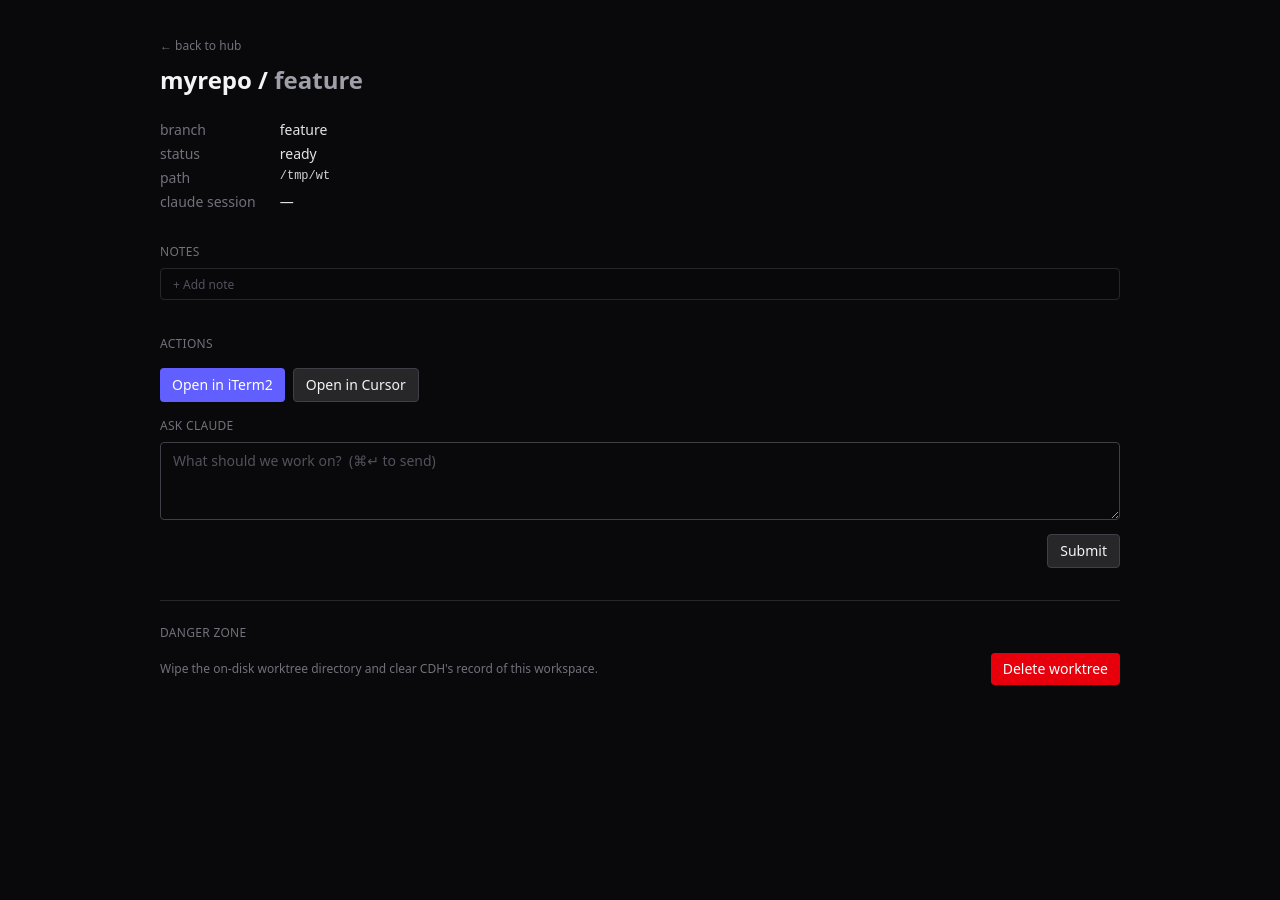
it: WorkspacePage › Delete confirm button stays disabled until 'delete worktree' is typed
The width and height of the screenshot is (1280, 900).
Click the button "Delete worktree": [1055, 669] box [991,653,1120,685]
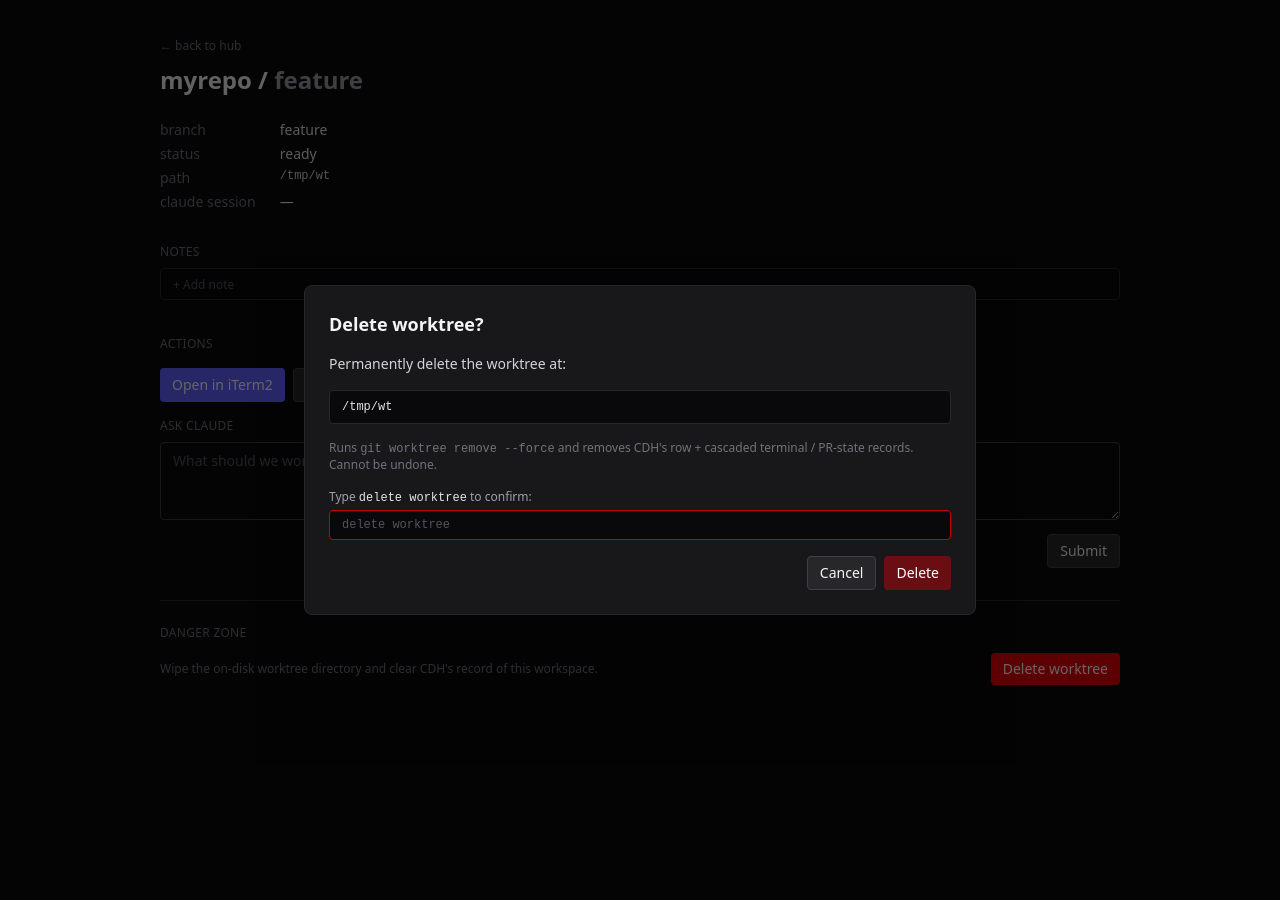
Expected: the button "Delete" is disabled, [884,556,951,590]
# Partial / wrong text → still disabled.
In the field with placeholder "delete worktree": [640, 525] box [329,510,951,540], type "delete"
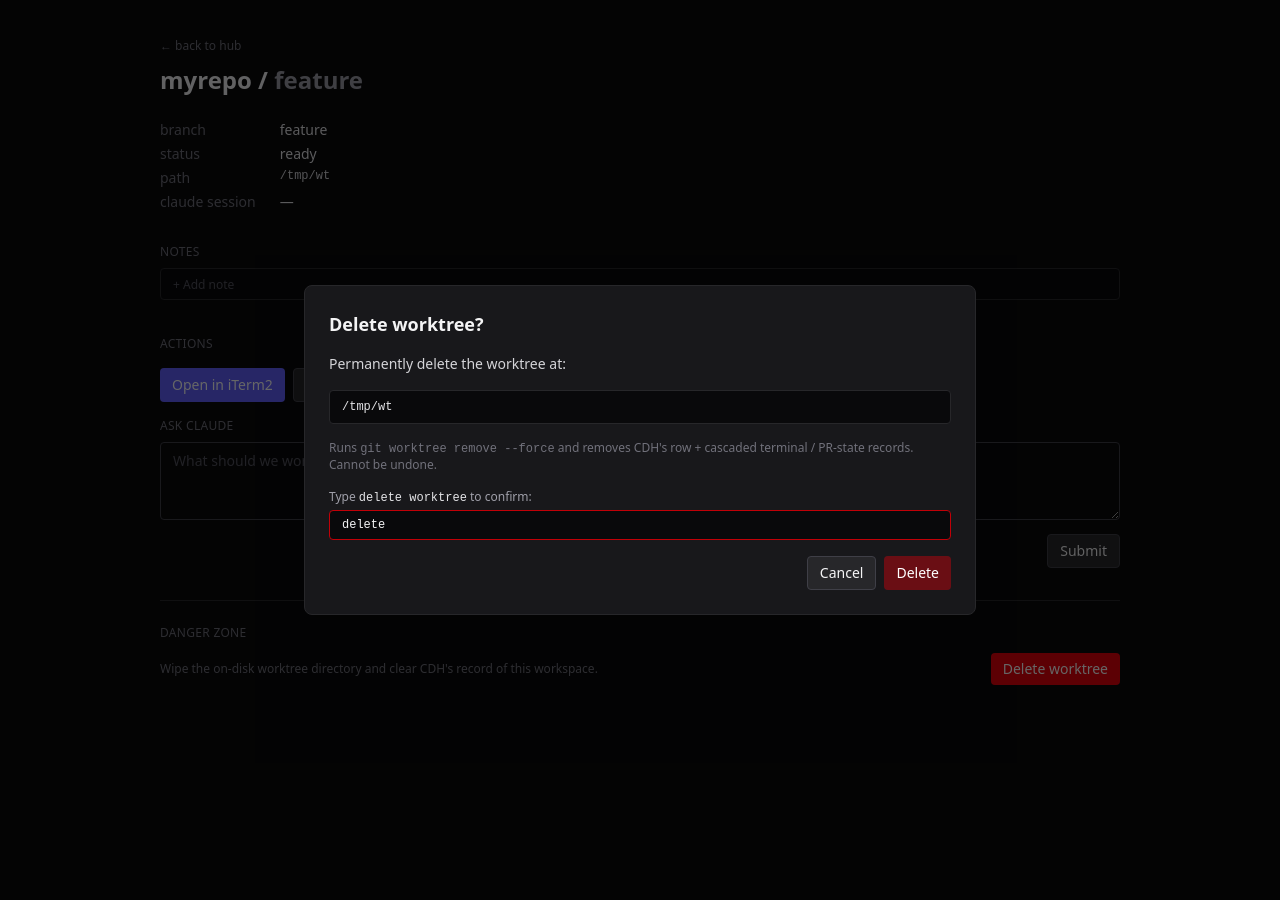
Expected: the button "Delete" is disabled, [884,556,951,590]
Replace the text in the field with placeholder "delete worktree" with "delete WORKTREE": [640, 525] box [329,510,951,540]
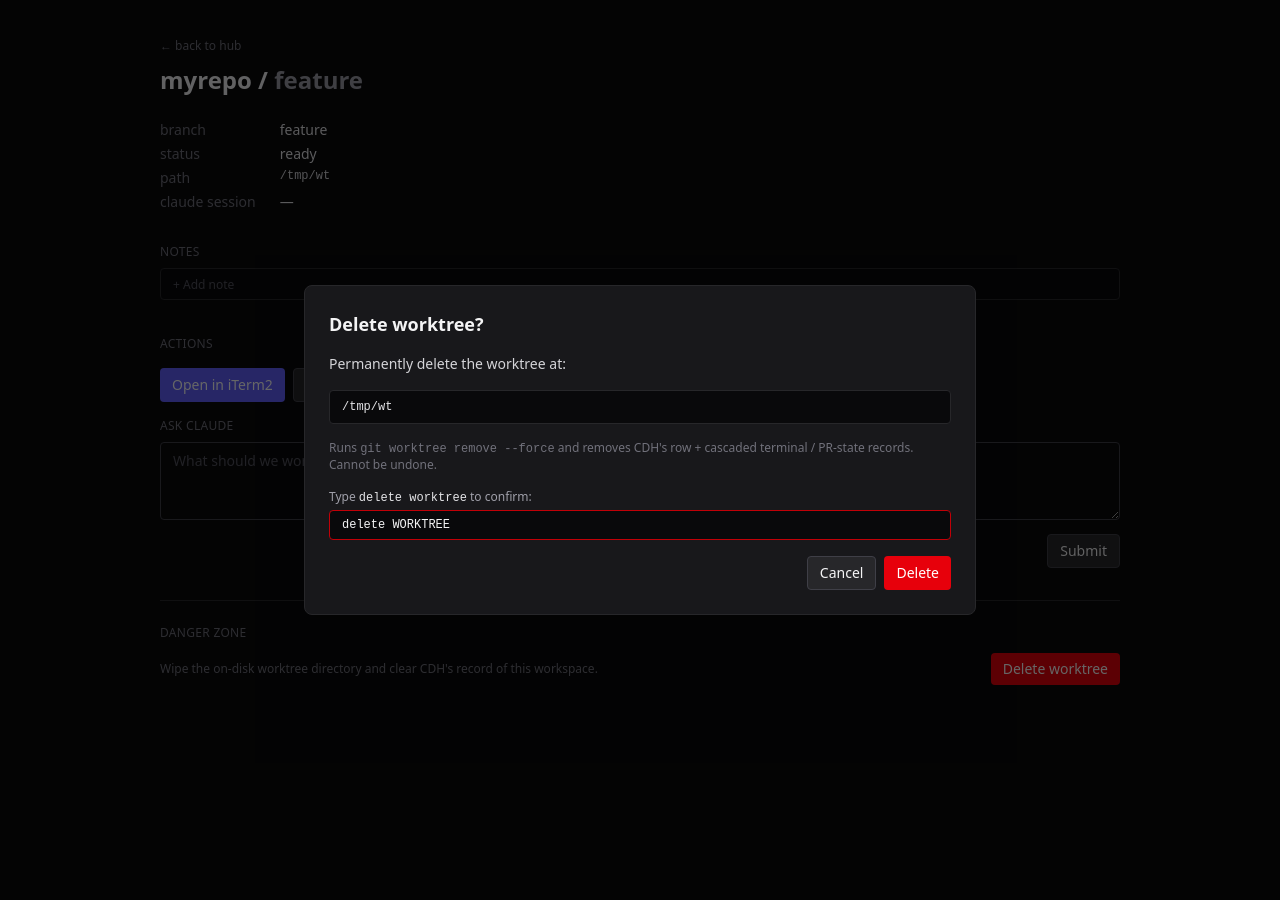
Expected: the button "Delete" is enabled, [884,556,951,590]
Replace the text in the field with placeholder "delete worktree" with "nope": [640, 525] box [329,510,951,540]
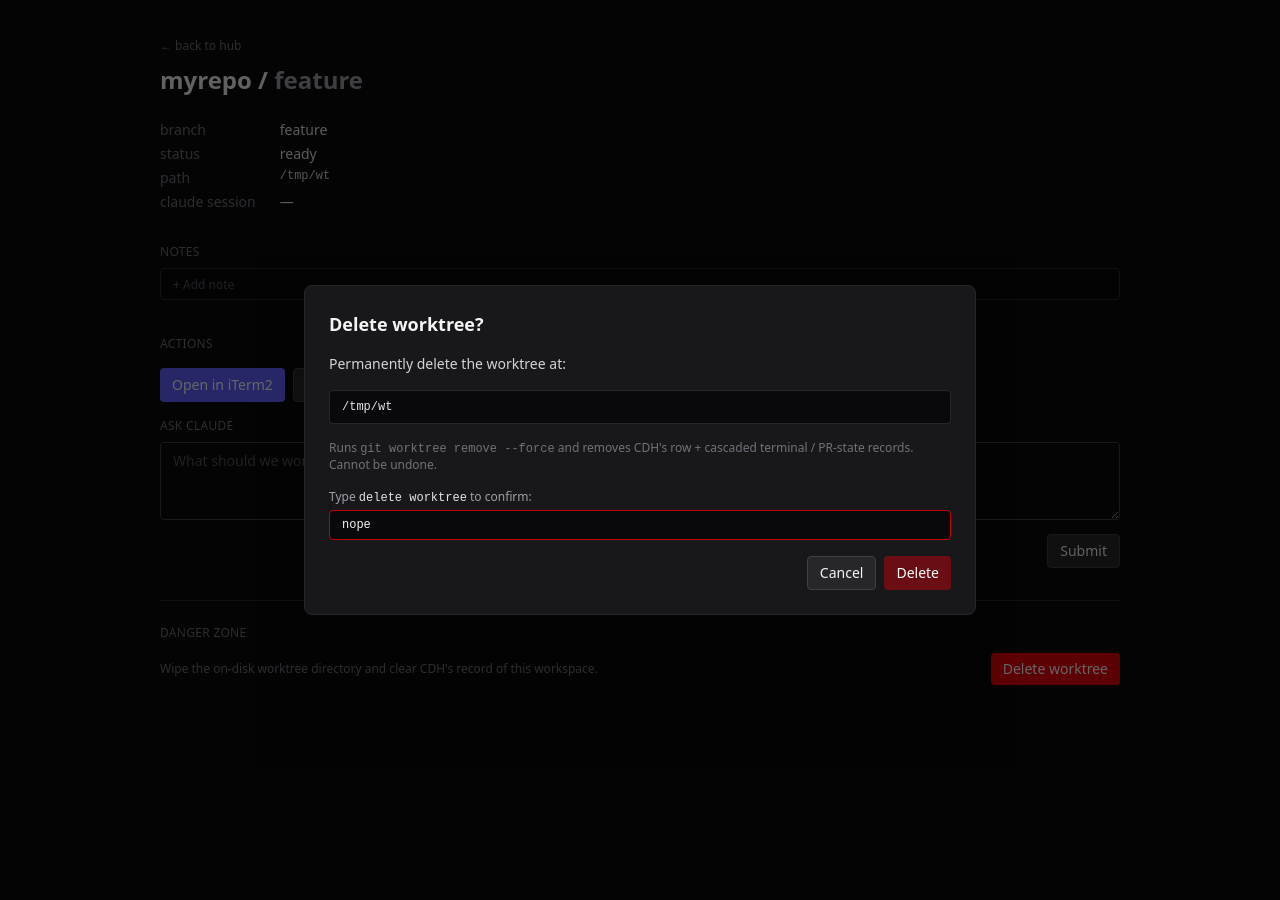
Expected: the button "Delete" is disabled, [884,556,951,590]
